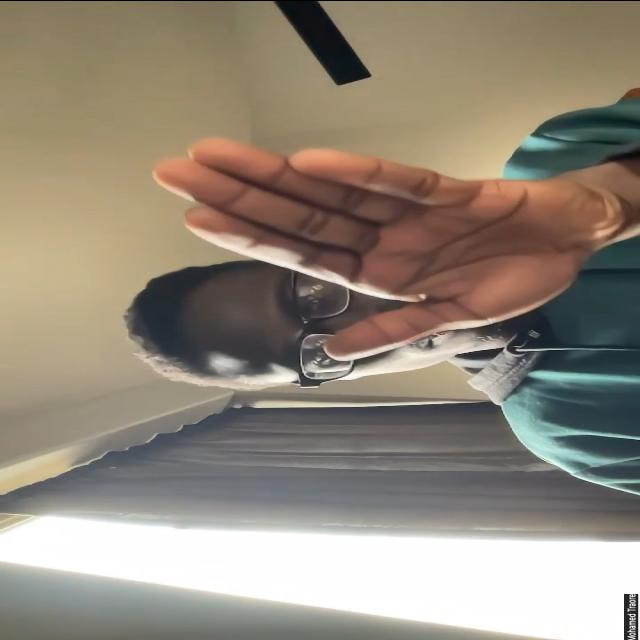Paper: (148, 136, 628, 362)
